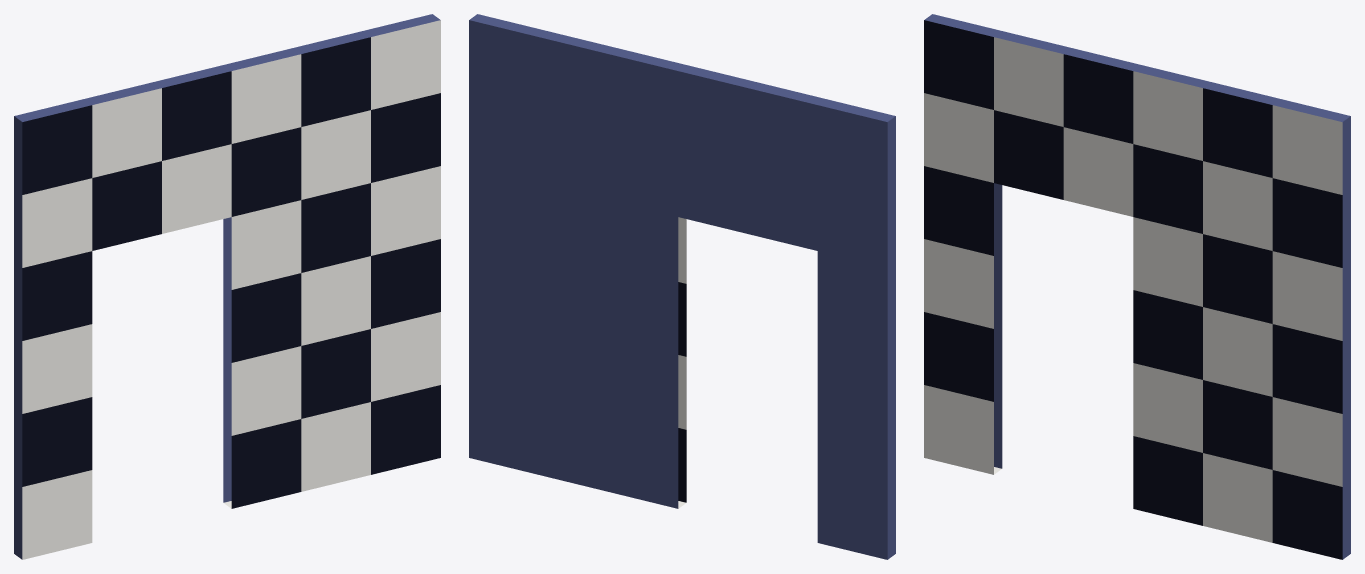
Rendered from Bathroom2HallwayWallDoor.fbx.
3 views of the same model, side by side, from view 1: azimuth 30°, elevation 25°; view 2: azimuth 150°, elevation 25°; view 3: azimuth 330°, elevation 25° (orthographic).
Parts seen in each view (by area): view 1: Cube; view 2: Cube; view 3: Cube.
Boxes of the visible parts, left/top/right/bottom form: Cube: left=14, top=14, right=440, bottom=559; Cube: left=469, top=14, right=895, bottom=559; Cube: left=924, top=14, right=1350, bottom=559.
Bounding box in the file's own units: 100 × 2900 × 2900.
